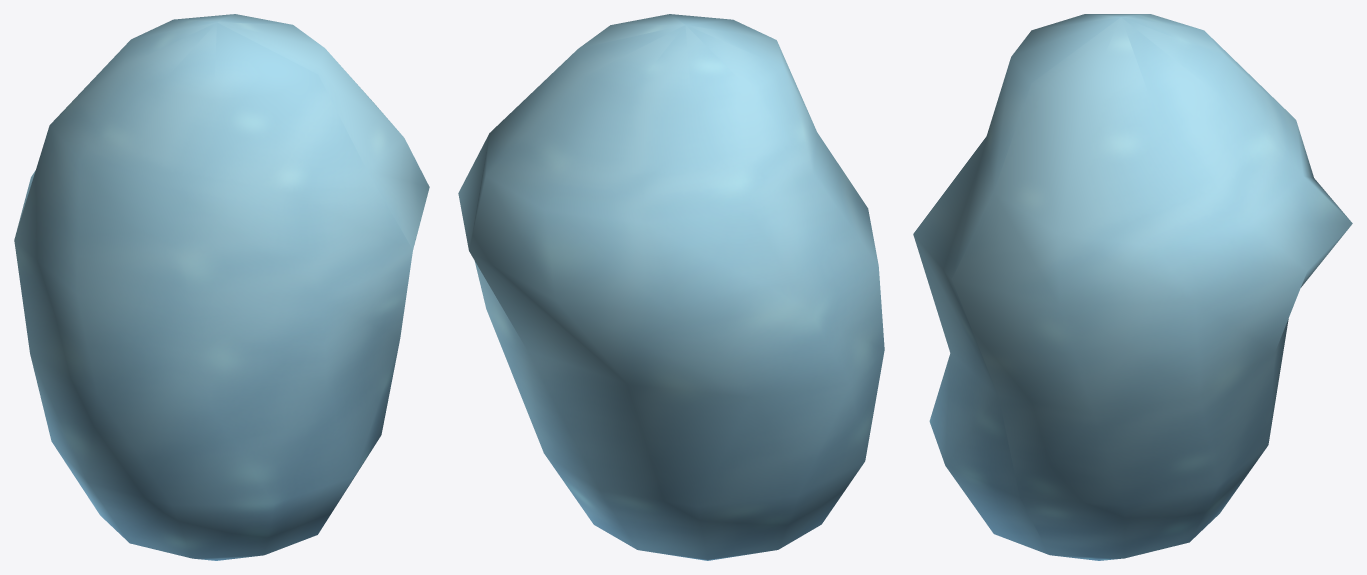
The model's file is Rock.fbx.
3 views of the same model, side by side, from view 1: azimuth 30°, elevation 25°; view 2: azimuth 150°, elevation 25°; view 3: azimuth 270°, elevation 25° (orthographic). The views are drawn at different scales.
Visible parts, largest first — view 1: Cylinder.001; view 2: Cylinder.001; view 3: Cylinder.001.
Part boxes in pixels (x1,y1,x2,y2): Cylinder.001: (14,14,429,560); Cylinder.001: (458,14,884,560); Cylinder.001: (913,14,1352,560).
Size of the model in its own units: 94.01 by 132 by 95.68.
